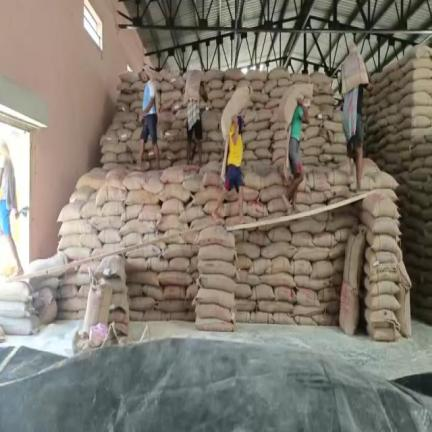Zone-Counting: (279, 84, 313, 208), (342, 45, 369, 187), (221, 86, 251, 213), (186, 71, 207, 166)
